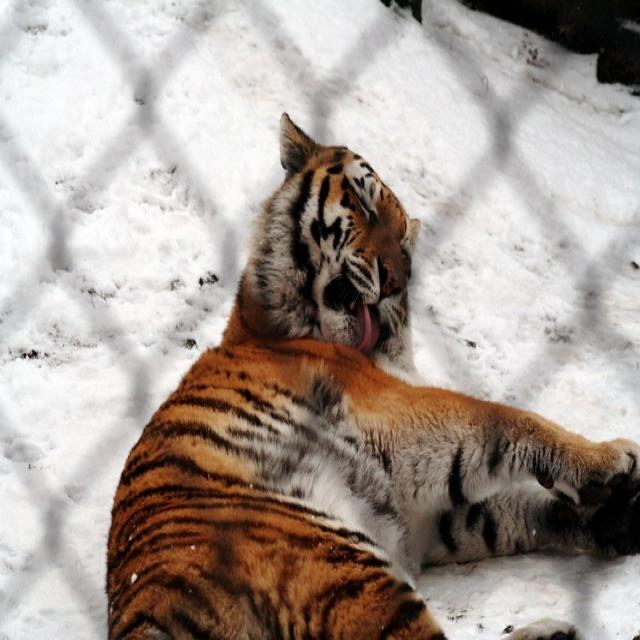Tiger: (104, 110, 638, 639)
